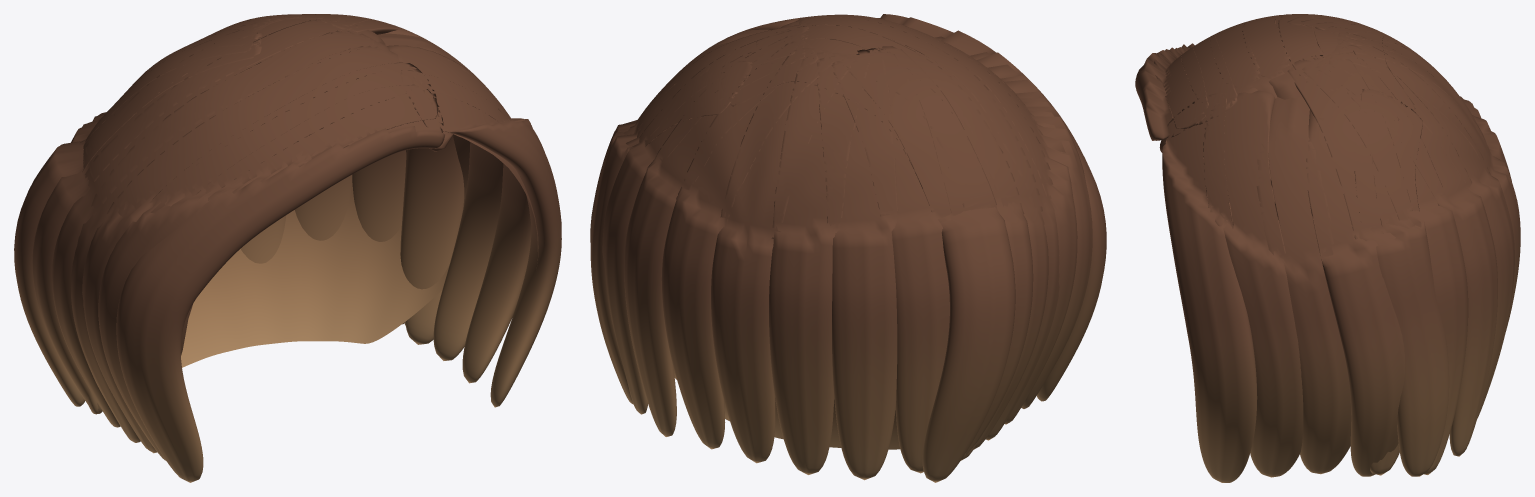
File: Feminine-bob-headband261-hair-ombre.glb
The picture shows the model from 3 angles, left to right: view 1: azimuth 30°, elevation 25°; view 2: azimuth 150°, elevation 25°; view 3: azimuth 270°, elevation 25°; orthographic projection. The views are drawn at different scales.
Visible parts, largest first — view 1: 226 hair / Hair / sculpted 0.004, 226 hair / Hair / sculpted 1.005, 226 hair / Hair / sculpted 2.004, 226 hair / Hair / sculpted 1; view 2: 226 hair / Hair / sculpted 0.004, 226 hair / Hair / sculpted 2.004, 226 hair / Hair / sculpted 1.005, 226 hair / Hair / sculpted 1; view 3: 226 hair / Hair / sculpted 1.005, 226 hair / Hair / sculpted 2.004, 226 hair / Hair / sculpted 0.004.
Boxes of the visible parts, x1,y1,x2,y2 form: 226 hair / Hair / sculpted 0.004: (14, 14, 503, 482); 226 hair / Hair / sculpted 1.005: (52, 14, 561, 460); 226 hair / Hair / sculpted 2.004: (32, 14, 532, 453); 226 hair / Hair / sculpted 1: (180, 134, 538, 367); 226 hair / Hair / sculpted 0.004: (624, 14, 1106, 482); 226 hair / Hair / sculpted 2.004: (590, 14, 1077, 473); 226 hair / Hair / sculpted 1.005: (590, 14, 1092, 480); 226 hair / Hair / sculpted 1: (673, 368, 900, 449); 226 hair / Hair / sculpted 1.005: (1154, 14, 1514, 482); 226 hair / Hair / sculpted 2.004: (1181, 14, 1520, 477); 226 hair / Hair / sculpted 0.004: (1135, 14, 1511, 474).
Size of the model in its own units: 1.02 by 0.8294 by 0.7806.
